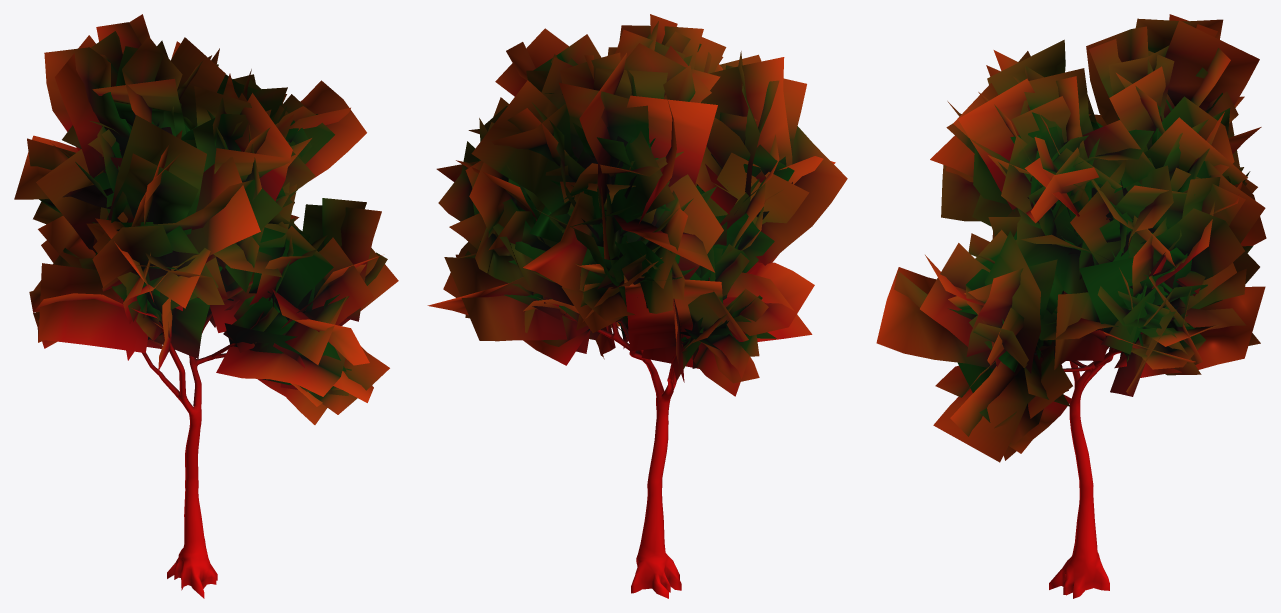
Rendered from GenericTreeRHEWP_A.fbx.
The picture shows the model from 3 angles, left to right: view 1: azimuth 30°, elevation 25°; view 2: azimuth 150°, elevation 25°; view 3: azimuth 270°, elevation 25°; orthographic projection. The views are drawn at different scales.
Visible parts, largest first — view 1: GTSA_Leaves_LOD0, GTSA_Bark_LOD0; view 2: GTSA_Leaves_LOD0, GTSA_Bark_LOD0; view 3: GTSA_Leaves_LOD0, GTSA_Bark_LOD0.
Part boxes in pixels (bbox=[...]): GTSA_Leaves_LOD0: bbox=[14, 14, 398, 424]; GTSA_Bark_LOD0: bbox=[142, 296, 305, 598]; GTSA_Leaves_LOD0: bbox=[427, 14, 847, 396]; GTSA_Bark_LOD0: bbox=[597, 277, 709, 598]; GTSA_Leaves_LOD0: bbox=[876, 14, 1266, 462]; GTSA_Bark_LOD0: bbox=[1034, 237, 1127, 598].
Size of what is drawn, in the model's own units: 7.81 by 12.88 by 8.09.
